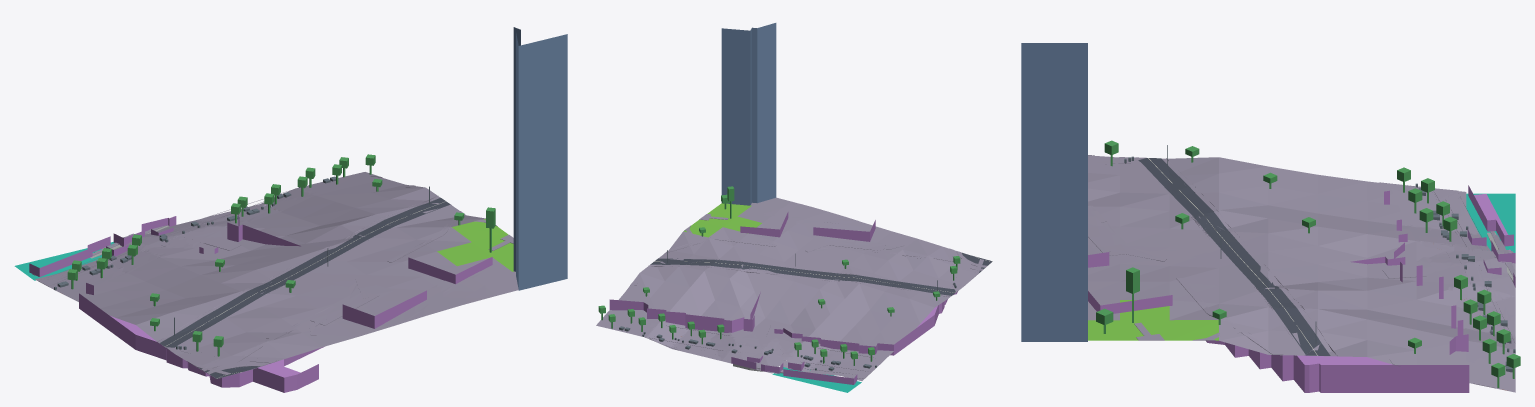
3 renders of one model, left to right at view 1: azimuth 30°, elevation 25°; view 2: azimuth 150°, elevation 25°; view 3: azimuth 270°, elevation 25°, orthographic. The views are drawn at different scales.
Visible parts, largest first — view 1: compiled-chunk; view 2: compiled-chunk; view 3: compiled-chunk.
Part boxes in pixels (<box>): compiled-chunk: <box>14,27,567,392</box>; compiled-chunk: <box>596,23,992,392</box>; compiled-chunk: <box>1021,43,1520,392</box>.
Size of the model in its own units: 121 by 98.03 by 121.
